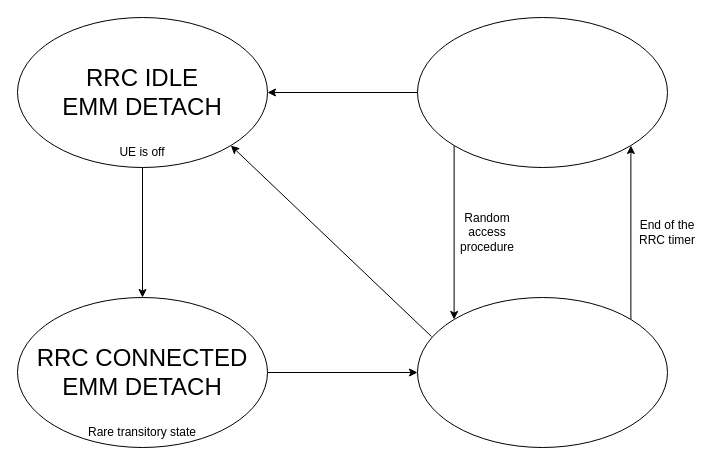
This 715x465 diagram has some shape labels left out. Each missing label, with the centre of its shape:
RRC CONNECTED EMM ATTACH: the point at 542,372
RRC IDLE EMM ATTACH: the point at 542,92
